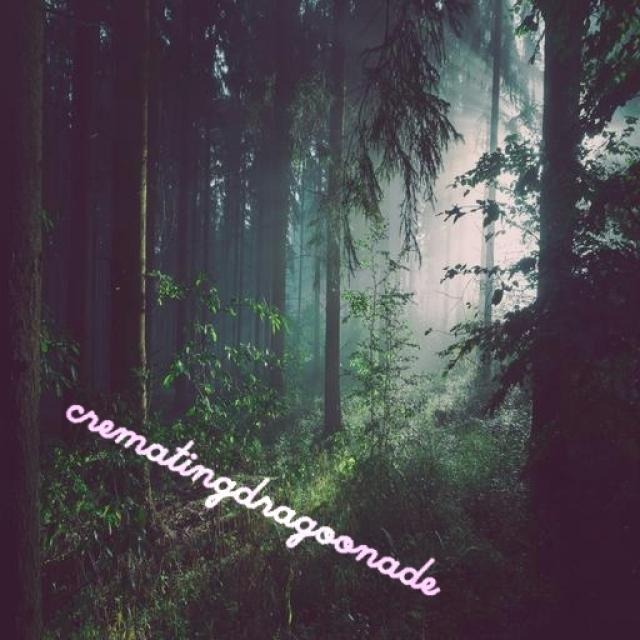watermark: (56, 382, 468, 606)
